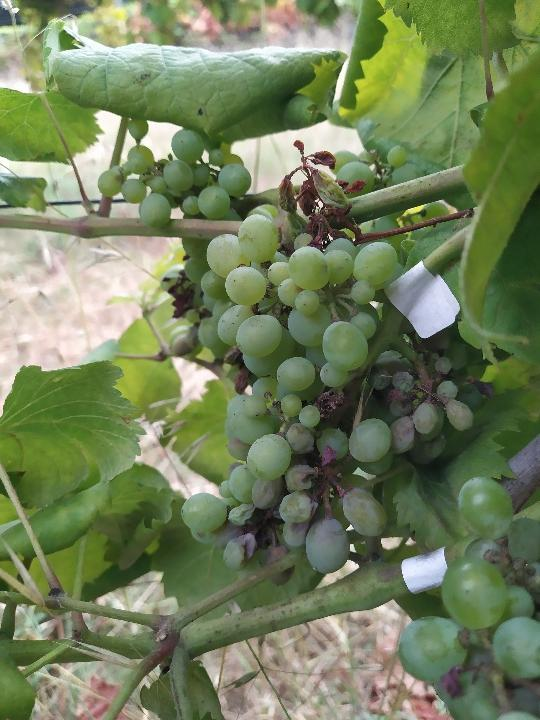grape: (174, 165, 476, 578)
